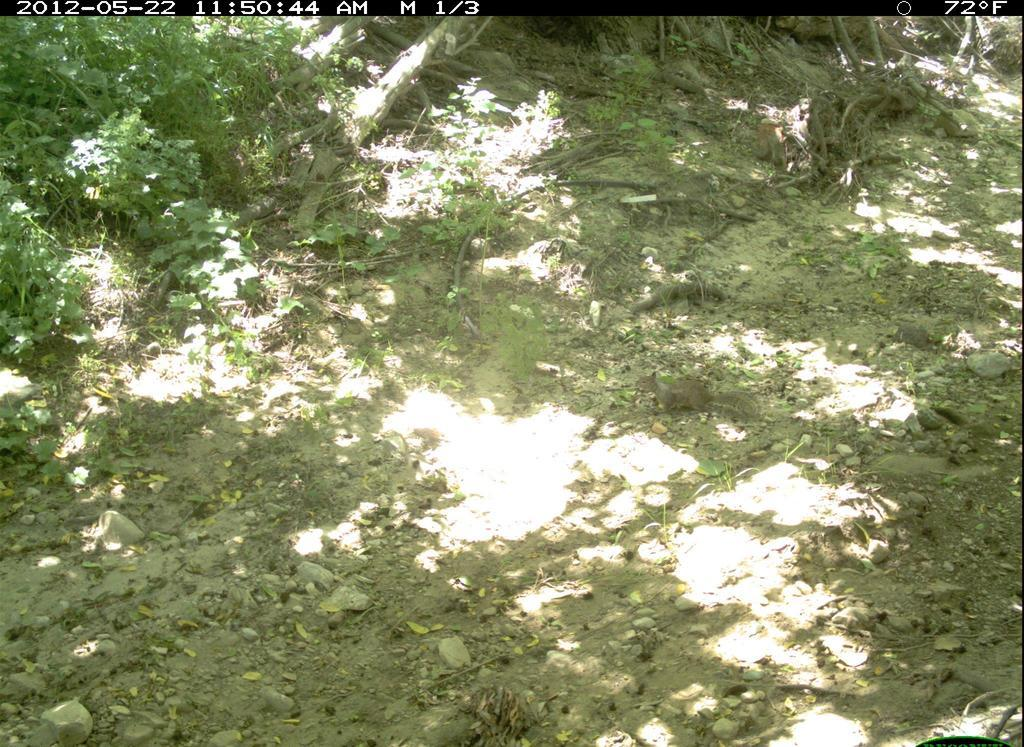squirrel: (624, 360, 772, 429)
